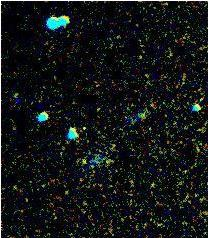star: (70, 111, 100, 141)
